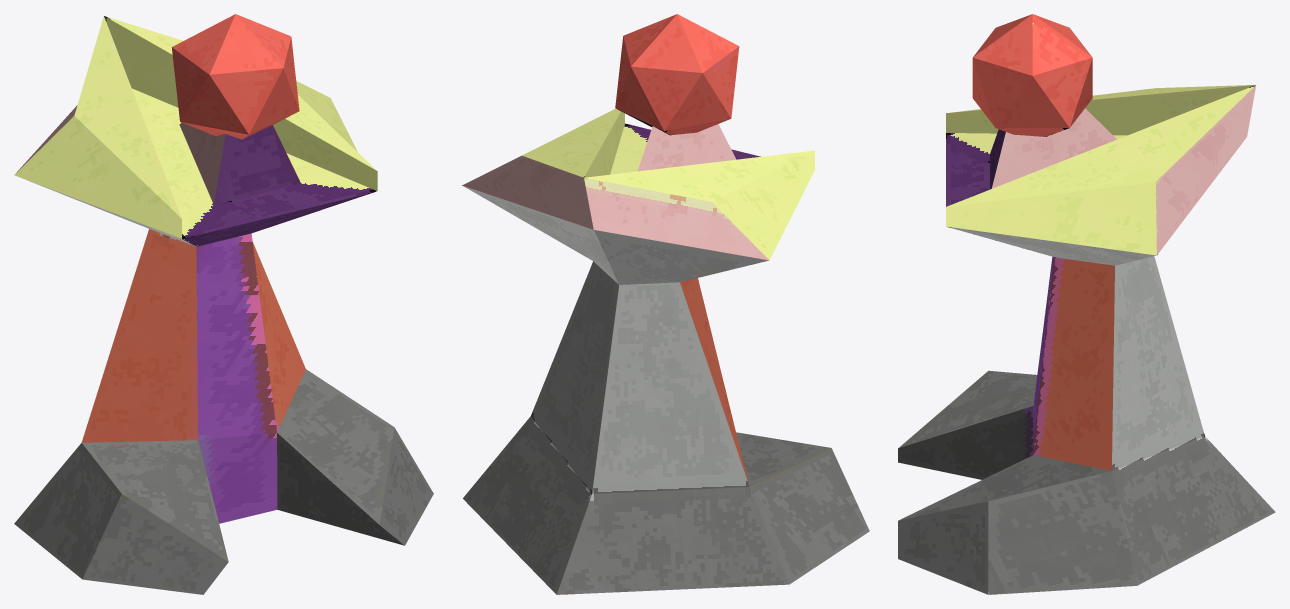
Rendered from shooter.glb.
3 views of the same model, side by side, from view 1: azimuth 30°, elevation 25°; view 2: azimuth 150°, elevation 25°; view 3: azimuth 270°, elevation 25° (orthographic). The views are drawn at different scales.
Visible parts, largest first — view 1: Cylinder; view 2: Cylinder; view 3: Cylinder.
Boxes of the visible parts, x1,y1,x2,y2 form: Cylinder: [14, 14, 433, 594]; Cylinder: [462, 14, 869, 594]; Cylinder: [898, 14, 1275, 594].
Bounding box in the file's own units: 4.93 × 6.8 × 4.67.
1 material, 1 textured.
